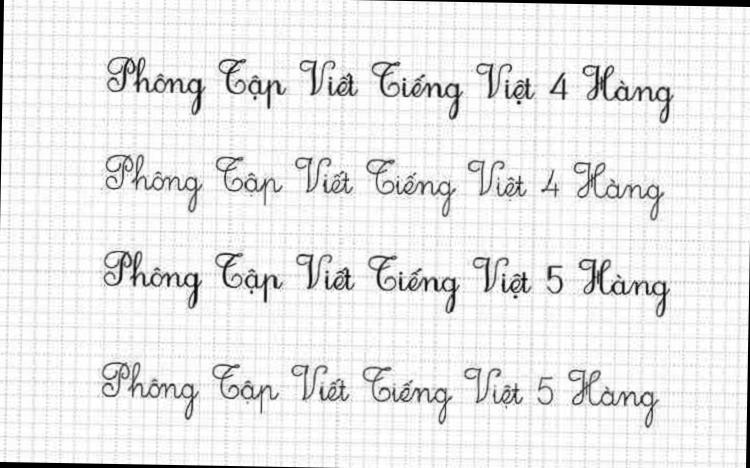text: (102, 51, 679, 126), (102, 148, 669, 222), (100, 247, 673, 320), (101, 356, 662, 430)
